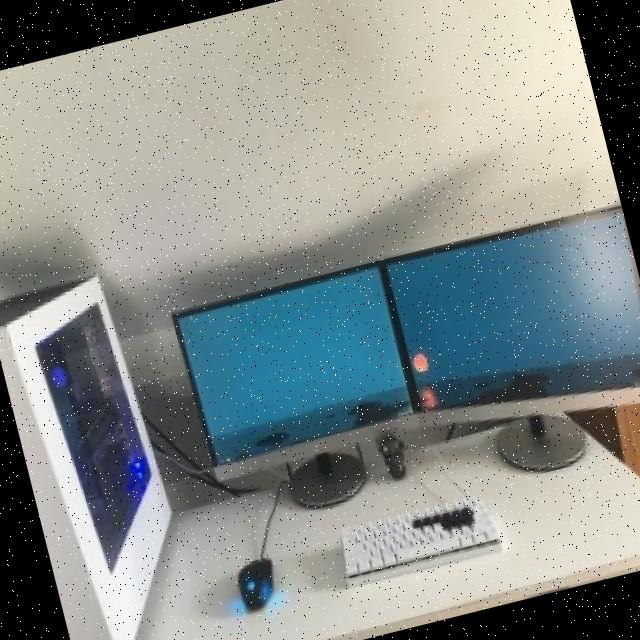Computer: (0, 254, 211, 640)
Monitor: (374, 188, 640, 463), (161, 253, 421, 490)
